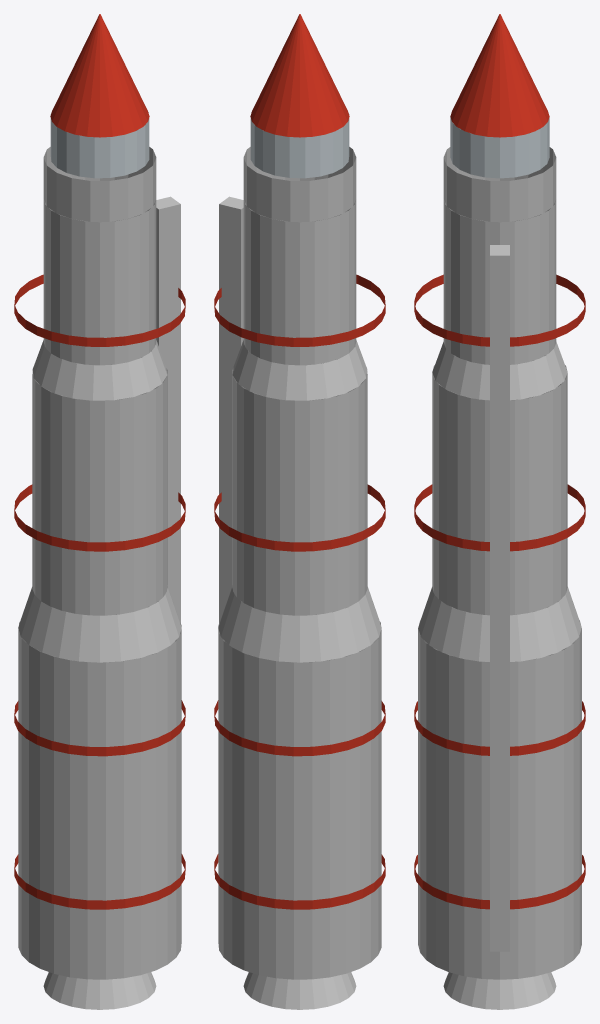
File: icbm.obj
The picture shows the model from 3 angles, left to right: view 1: azimuth 30°, elevation 25°; view 2: azimuth 150°, elevation 25°; view 3: azimuth 270°, elevation 25°; orthographic projection.
Parts seen in each view (by area): view 1: icbm; view 2: icbm; view 3: icbm.
Part boxes in pixels (<box>): icbm: <box>14,14,185,1009</box>; icbm: <box>214,14,385,1009</box>; icbm: <box>414,14,585,1009</box>.
Size of the model in its own units: 0.6693 by 4.14 by 0.6627.
